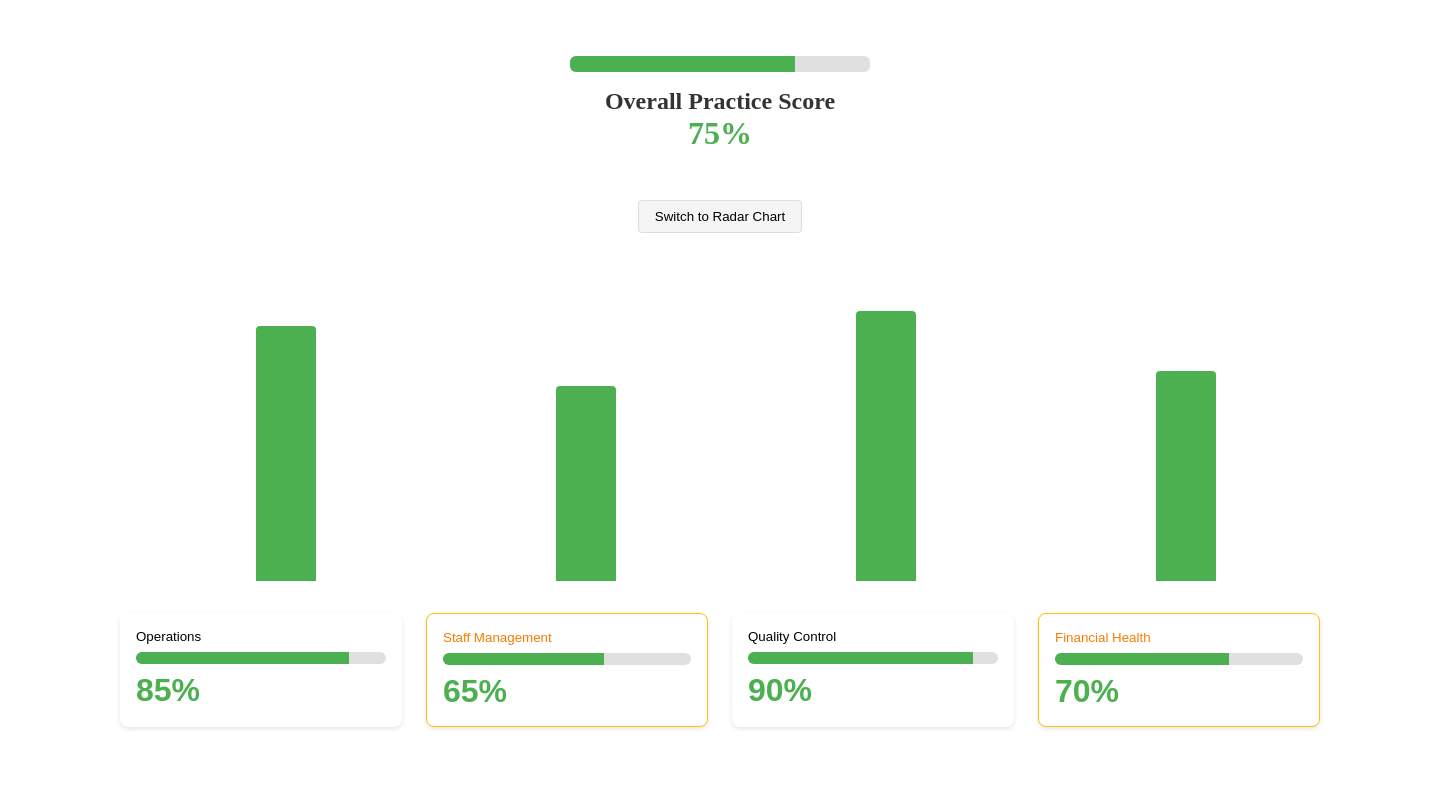
ScoreVisualization Component › Interactive Features › should show detailed information on category click
Click the text "Staff Management".
click(497, 638)  # box [443,630,552,645]
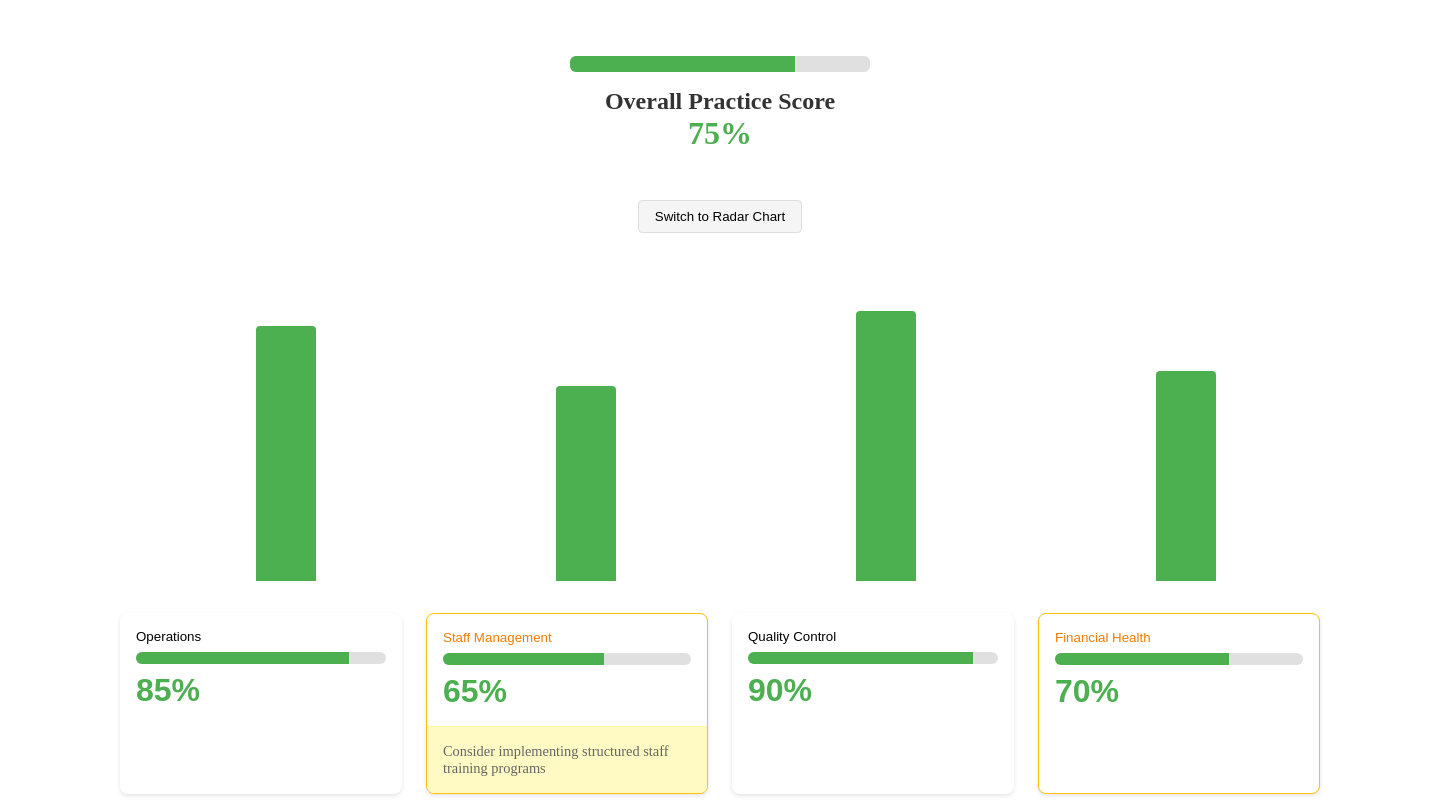
Result: the text "Consider implementing structured staff training programs" is shown at [427,726,707,793]
